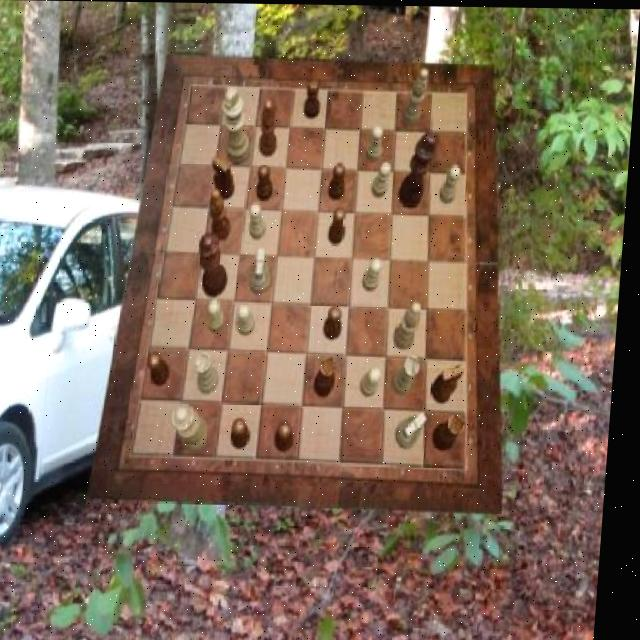bishop: (209, 189, 235, 242), (260, 98, 281, 156)
black-bishop: (399, 133, 439, 207)
black-king: (438, 362, 470, 403), (212, 153, 239, 199)
black-knight: (152, 351, 177, 386), (257, 163, 277, 201), (331, 206, 350, 243), (304, 79, 322, 118), (331, 161, 349, 199), (236, 417, 257, 448), (328, 306, 347, 340), (281, 421, 300, 452)
black-pawn: (200, 232, 235, 298)
black-queen: (437, 412, 472, 450), (318, 355, 341, 396)
black-rook: (402, 67, 429, 124), (399, 302, 426, 350)
white-bishop: (220, 86, 255, 164)
white-king: (401, 410, 433, 448), (252, 248, 275, 294)
white-knight: (441, 164, 463, 202), (250, 202, 270, 240), (366, 123, 386, 161), (373, 160, 394, 196), (366, 256, 387, 291), (211, 298, 231, 333), (365, 365, 387, 396), (240, 303, 261, 335)
white-pawn: (176, 403, 216, 451)
white-queen: (396, 354, 426, 394), (199, 352, 226, 394)
